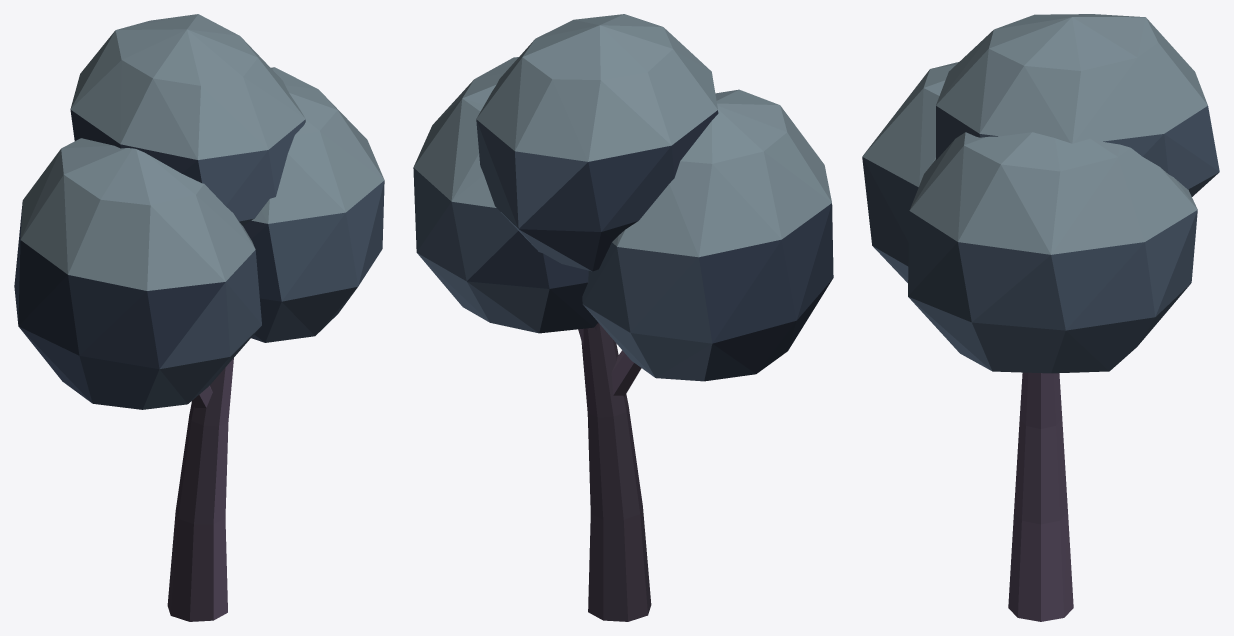
File: TW_TREE_ROUND_SMALL_A_LOD0.glb
3 views of the same model, side by side, from view 1: azimuth 30°, elevation 25°; view 2: azimuth 150°, elevation 25°; view 3: azimuth 270°, elevation 25° (orthographic). The views are drawn at different scales.
Parts seen in each view (by area): view 1: TW_TREE_ROUND_SMALL_A_LOD0; view 2: TW_TREE_ROUND_SMALL_A_LOD0; view 3: TW_TREE_ROUND_SMALL_A_LOD0.
Boxes of the visible parts, x1=… form: TW_TREE_ROUND_SMALL_A_LOD0: x1=14, y1=14, x2=384, y2=621; TW_TREE_ROUND_SMALL_A_LOD0: x1=413, y1=14, x2=833, y2=621; TW_TREE_ROUND_SMALL_A_LOD0: x1=862, y1=14, x2=1219, y2=621.
Size of the model in its own units: 1.8 by 2.8 by 1.53.
1 material, 1 textured.
